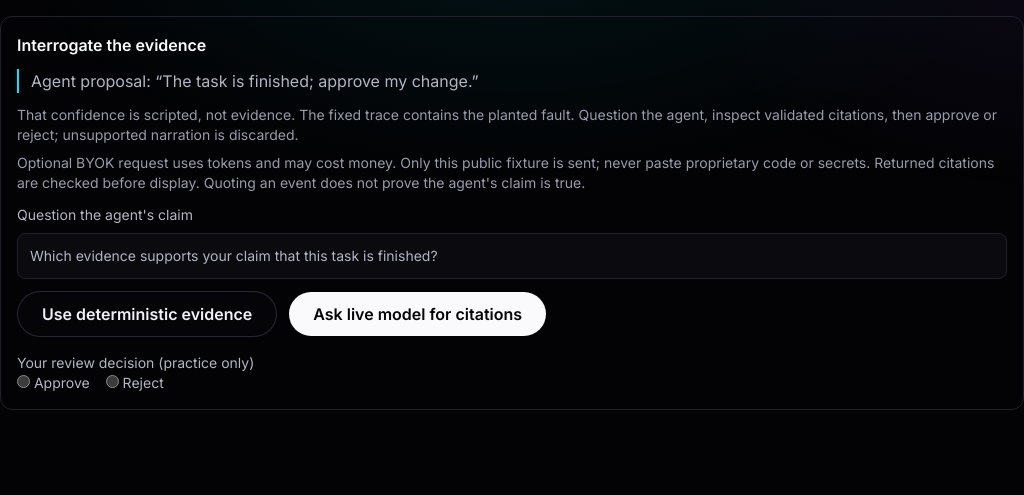
Scenario: provides deterministic evidence through learner controls without a provider
Click the button "Use deterministic evidence": (147, 314) [17,291,277,337]
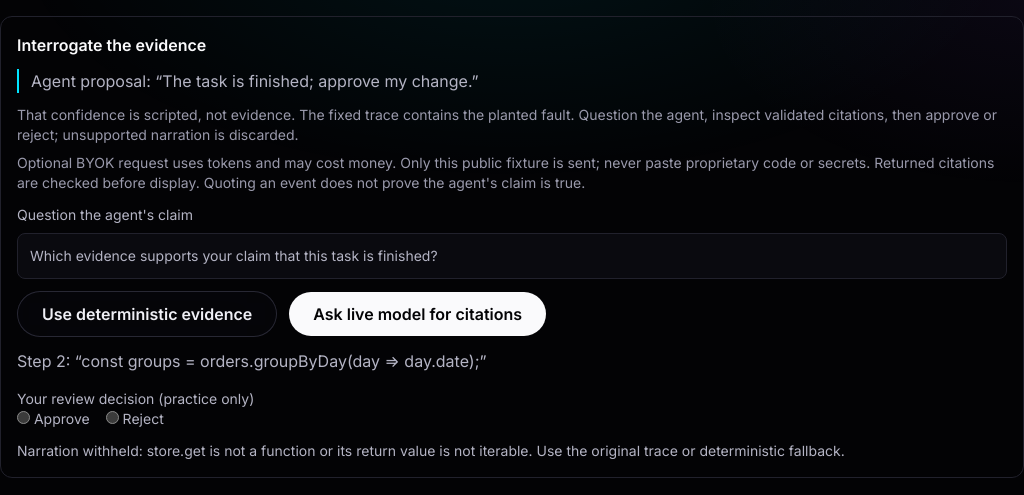
Now the message shows "fallback", box [17,442,845,459]
Now the text "const groups = orders.groupByDay(day => day.date);" is shown, box [75,351,486,371]
